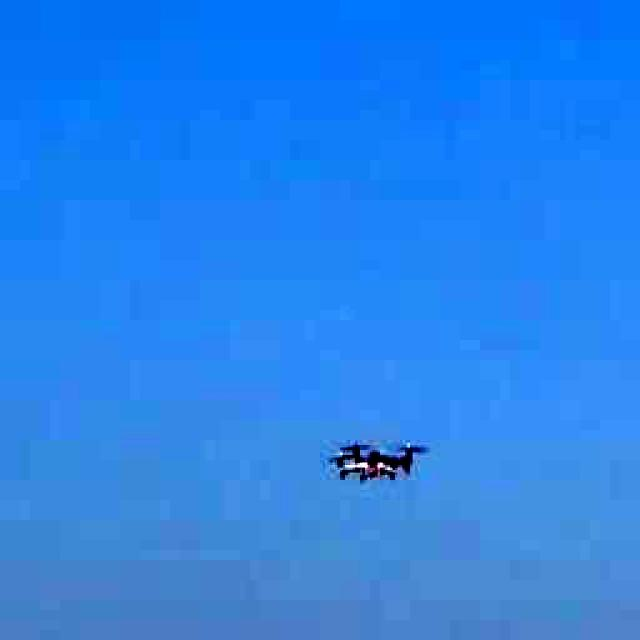bird: (321, 422, 429, 495)
